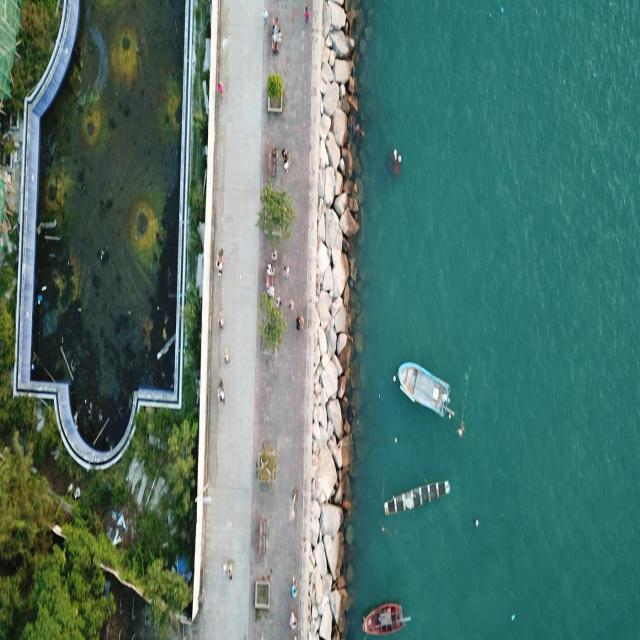car: (397, 361, 455, 420), (362, 603, 411, 634)
person: (282, 148, 290, 172), (304, 6, 310, 25)
tree: (255, 176, 297, 243), (257, 288, 287, 355), (266, 72, 283, 110)
